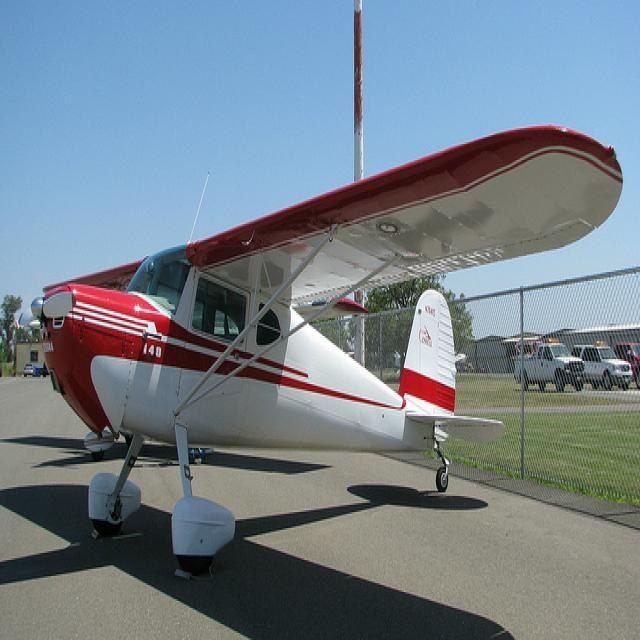Vehicle: (513, 341, 585, 394), (572, 340, 634, 392), (614, 342, 640, 390), (614, 343, 640, 388), (22, 358, 44, 379)
